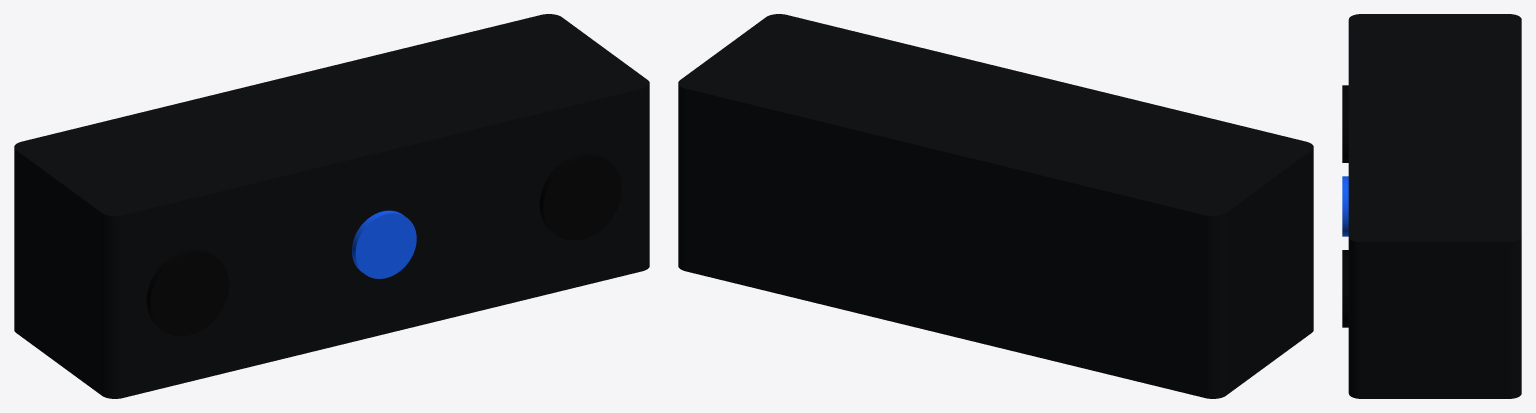
File: camera_3d.glb
3 views of the same model, side by side, from view 1: azimuth 30°, elevation 25°; view 2: azimuth 150°, elevation 25°; view 3: azimuth 270°, elevation 25° (orthographic). The views are drawn at different scales.
Parts seen in each view (by area): view 1: camera_3d; view 2: camera_3d; view 3: camera_3d.
Part boxes in pixels (<box>): camera_3d: <box>14,14,649,398</box>; camera_3d: <box>678,14,1313,398</box>; camera_3d: <box>1342,14,1521,398</box>.
Size of the model in its own units: 0.25 by 0.08 by 0.083.
